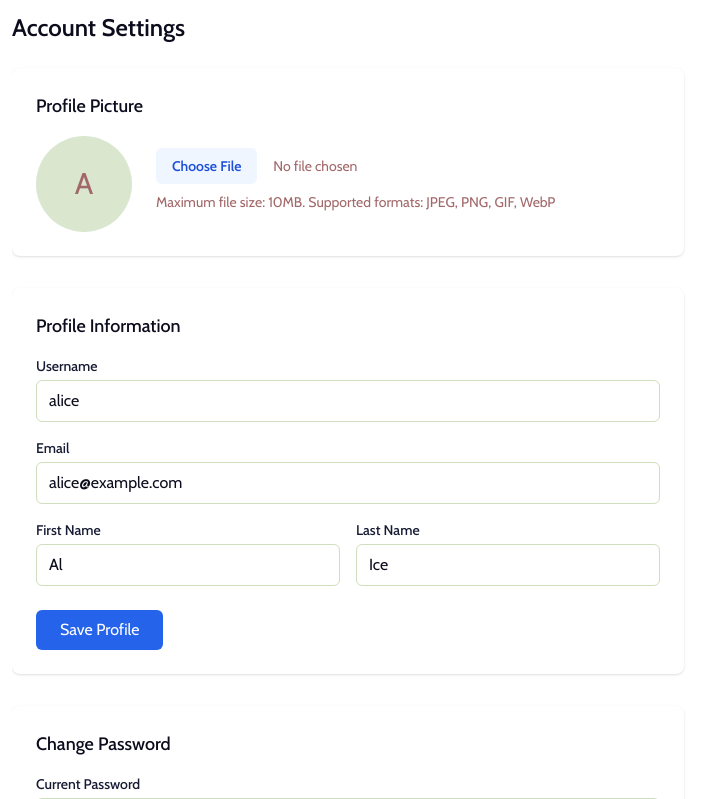
it: UserSettings › updates a changed profile field
The width and height of the screenshot is (701, 799).
Step 1. Replace the text in the field showing "alice" below "Username" with "alice2" → (348, 401), box [36,380,660,422]
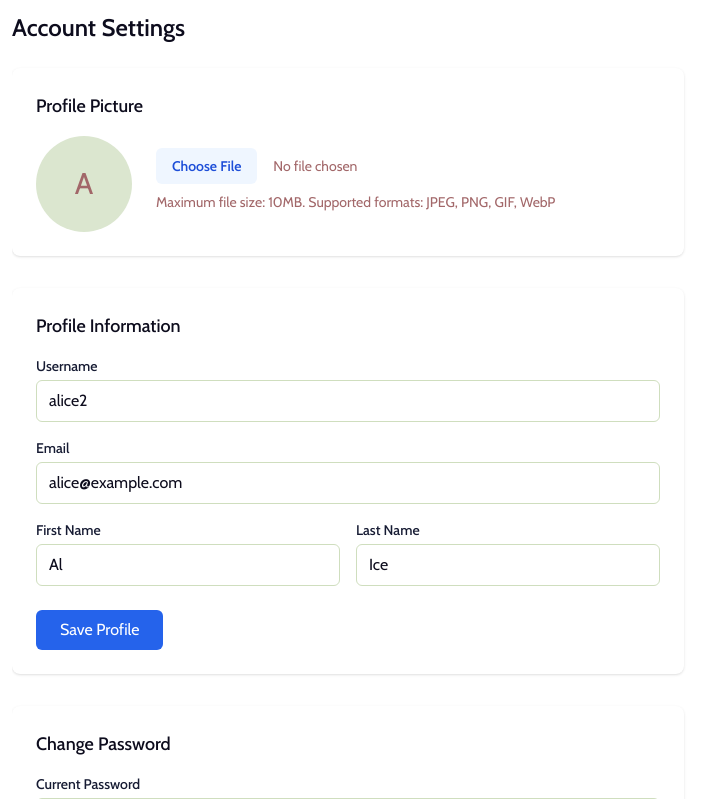
Step 2. Click the button "Save Profile" → (100, 630), box [36,610,163,650]
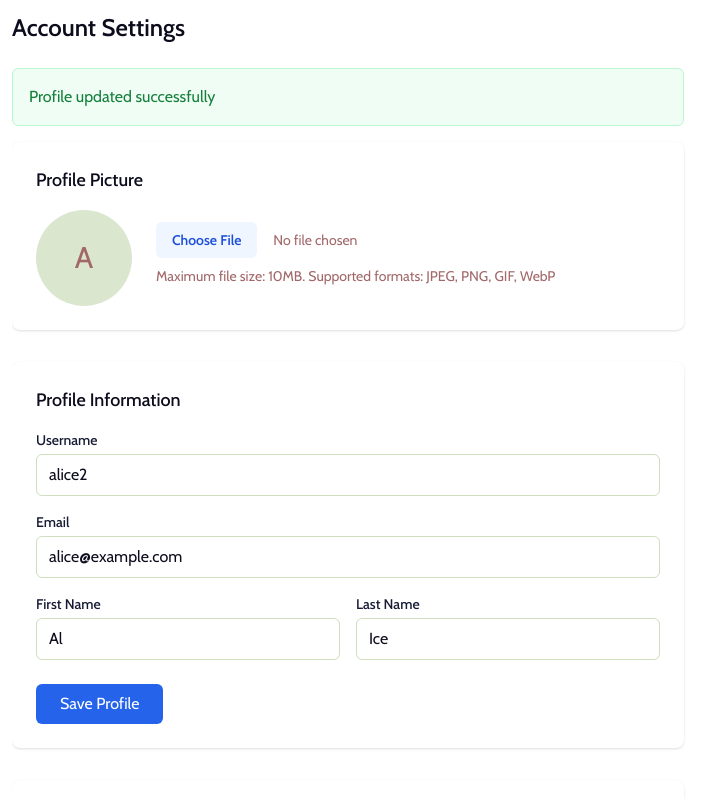
Check: the text "Profile updated successfully" is shown, box [12,68,684,126]
